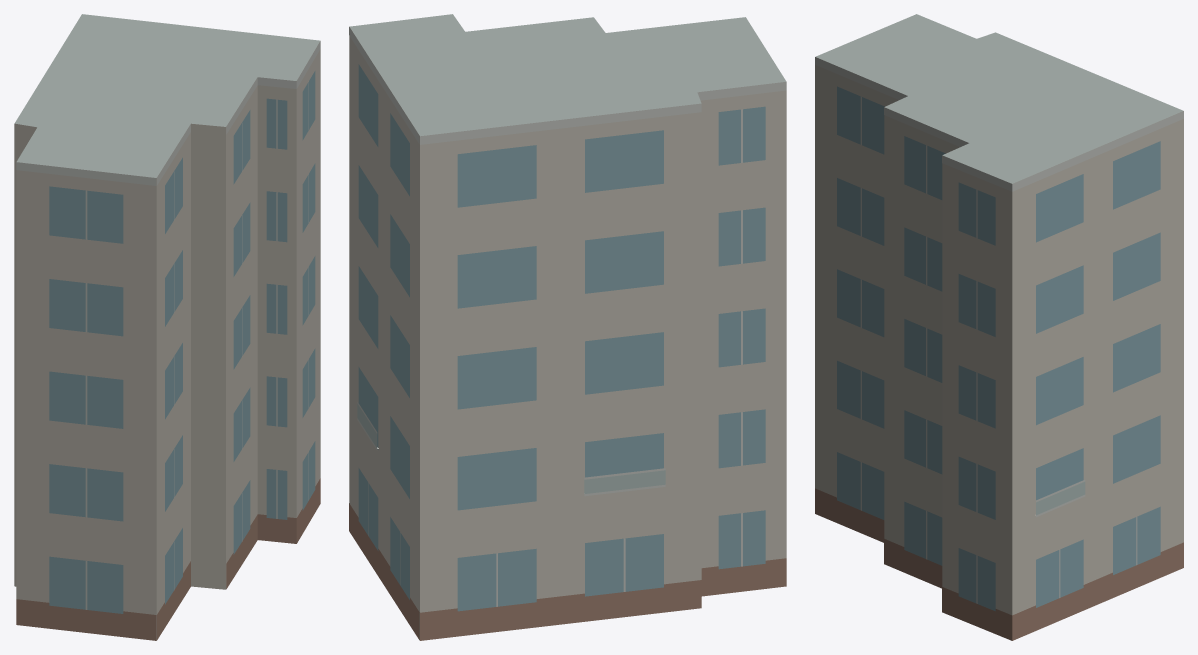
File: survey-upis-32597287.glb
3 views of the same model, side by side, from view 1: azimuth 30°, elevation 25°; view 2: azimuth 150°, elevation 25°; view 3: azimuth 270°, elevation 25° (orthographic). The views are drawn at different scales.
Visible parts, largest first — view 1: survey-upis-32597287.tmp; view 2: survey-upis-32597287.tmp; view 3: survey-upis-32597287.tmp.
Boxes of the visible parts, x1=… form: survey-upis-32597287.tmp: x1=14, y1=14, x2=320, y2=640; survey-upis-32597287.tmp: x1=349, y1=14, x2=786, y2=640; survey-upis-32597287.tmp: x1=815, y1=14, x2=1183, y2=640.
Size of the model in its own units: 11.25 by 14.1 by 10.32.
